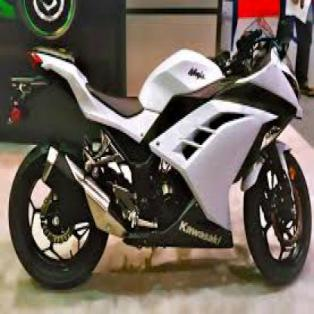Motocicleta: (5, 12, 312, 288)
